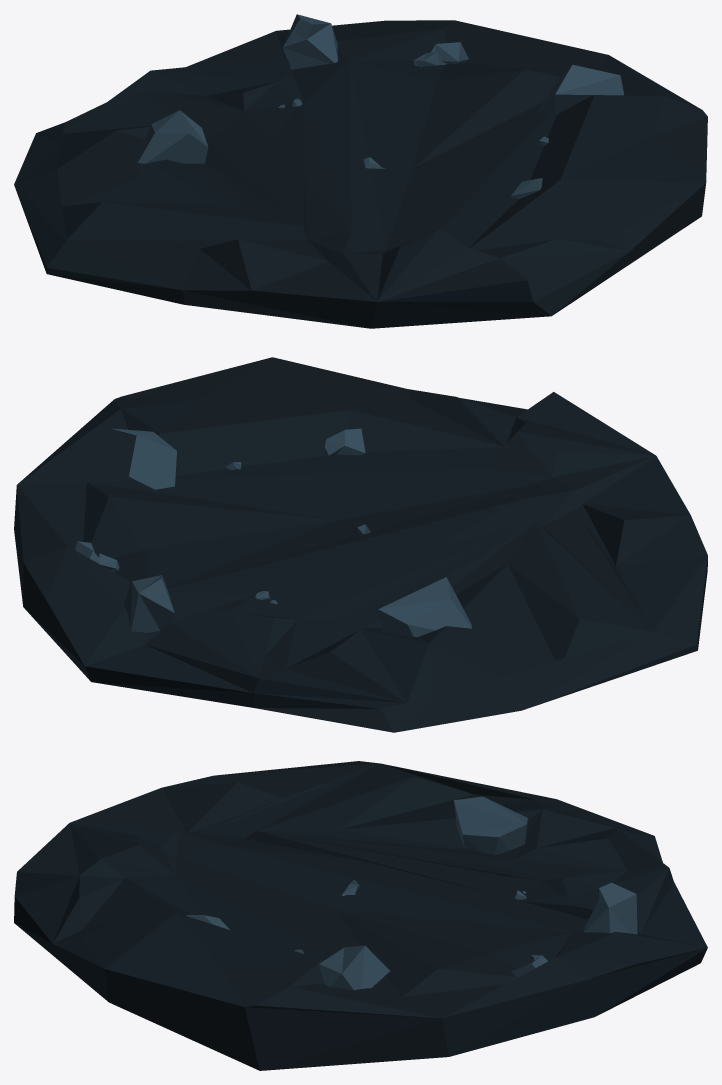
File: rockbase.obj
The picture shows the model from 3 angles, top to bottom: view 1: azimuth 30°, elevation 25°; view 2: azimuth 150°, elevation 25°; view 3: azimuth 270°, elevation 25°; orthographic projection. The views are drawn at different scales.
Parts seen in each view (by area): view 1: group390284621; view 2: group390284621; view 3: group390284621.
Part boxes in pixels (x1=…): group390284621: x1=14, y1=14, x2=707, y2=328; group390284621: x1=14, y1=357, x2=707, y2=732; group390284621: x1=14, y1=761, x2=707, y2=1070.
Bounding box in the file's own units: 7.54 × 1.05 × 7.52.
